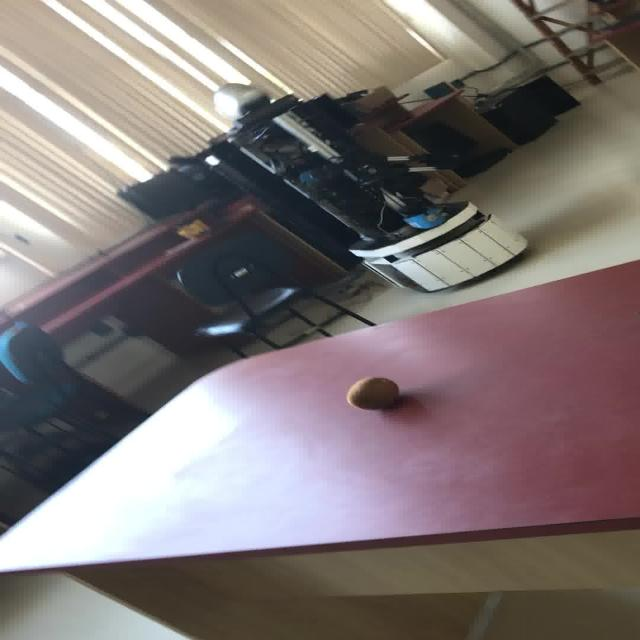kiwi: (344, 376, 398, 409)
